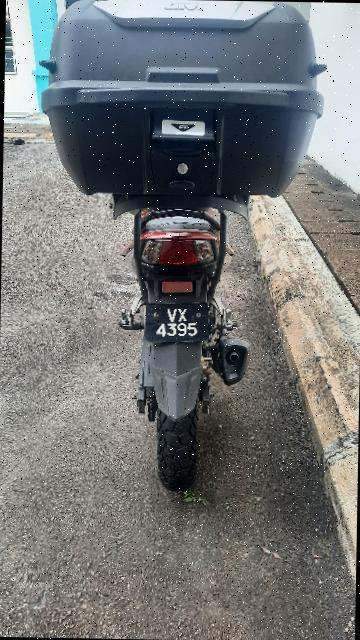License_Plate: (136, 295, 231, 356)
motorcycle: (31, 7, 336, 500)
